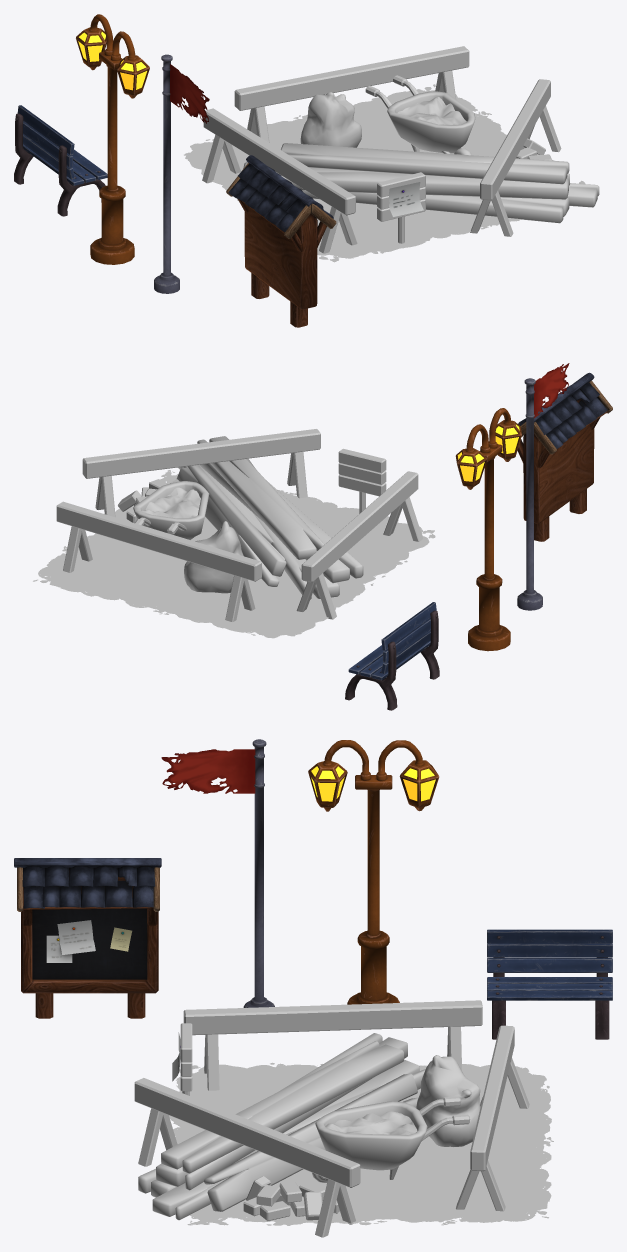
The model's file is plazaprops.fbx.
3 views of the same model, one above another, from view 1: azimuth 30°, elevation 25°; view 2: azimuth 150°, elevation 25°; view 3: azimuth 270°, elevation 25° (orthographic). The views are drawn at different scales.
Parts seen in each view (by area): view 1: construction_props, construction_sand, bulletin, lantern, bench, flag_pole, flag, construction_note; view 2: construction_props, construction_sand, bulletin, lantern, bench, flag_pole, flag; view 3: construction_props, construction_sand, bulletin, bench, lantern, flag, flag_pole, bulletin_notes.
Part boxes in pixels (x1,y1,x2,y2): construction_props: (202, 46, 599, 253); construction_sand: (184, 84, 585, 262); bulletin: (226, 155, 336, 327); lantern: (76, 14, 149, 264); bench: (14, 105, 107, 216); flag_pole: (154, 54, 179, 293); flag: (170, 64, 209, 123); construction_note: (389, 182, 423, 216); construction_props: (56, 429, 422, 621); construction_sand: (33, 470, 435, 638); bulletin: (517, 372, 612, 541); lantern: (455, 408, 521, 651); bench: (345, 602, 439, 710); flag_pole: (517, 378, 542, 610); flag: (534, 363, 569, 418); construction_props: (134, 1000, 529, 1237); construction_sand: (169, 1062, 553, 1225); bulletin: (14, 858, 161, 1018); bench: (487, 929, 612, 1039); lantern: (308, 740, 439, 1004); flag: (161, 749, 255, 793); flag_pole: (243, 739, 274, 1007); bulletin_notes: (46, 920, 132, 962).
Size of the model in its own units: 1279 by 636 by 1255.
